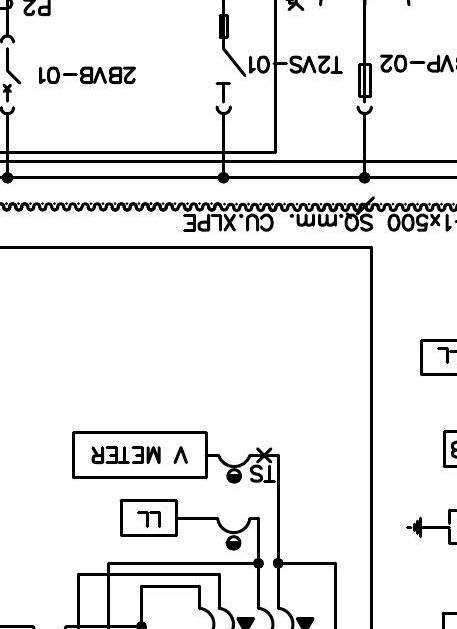LL: (119, 498, 179, 538)
v_m_digital: (71, 430, 209, 480)
